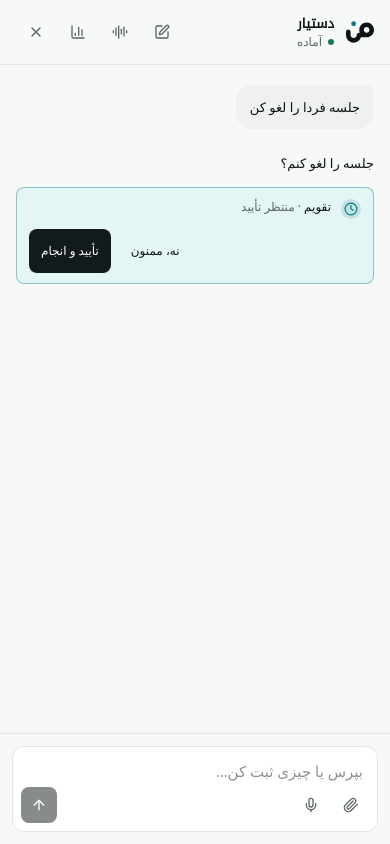
it: Assistant conversation › does nothing when the user declines
This screenshot has width=390, height=844.
Click the button "نه، ممنون": x=155, y=251 x1=119 y1=229 x2=192 y2=273
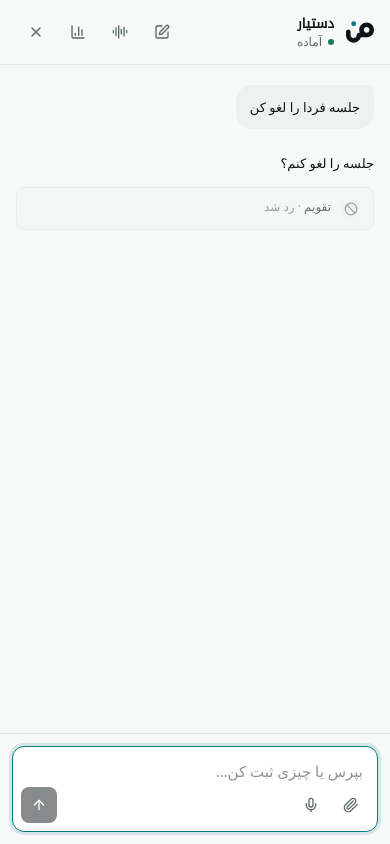
Expected: the text "· رد شد" is shown, x1=264 y1=198 x2=304 y2=215
